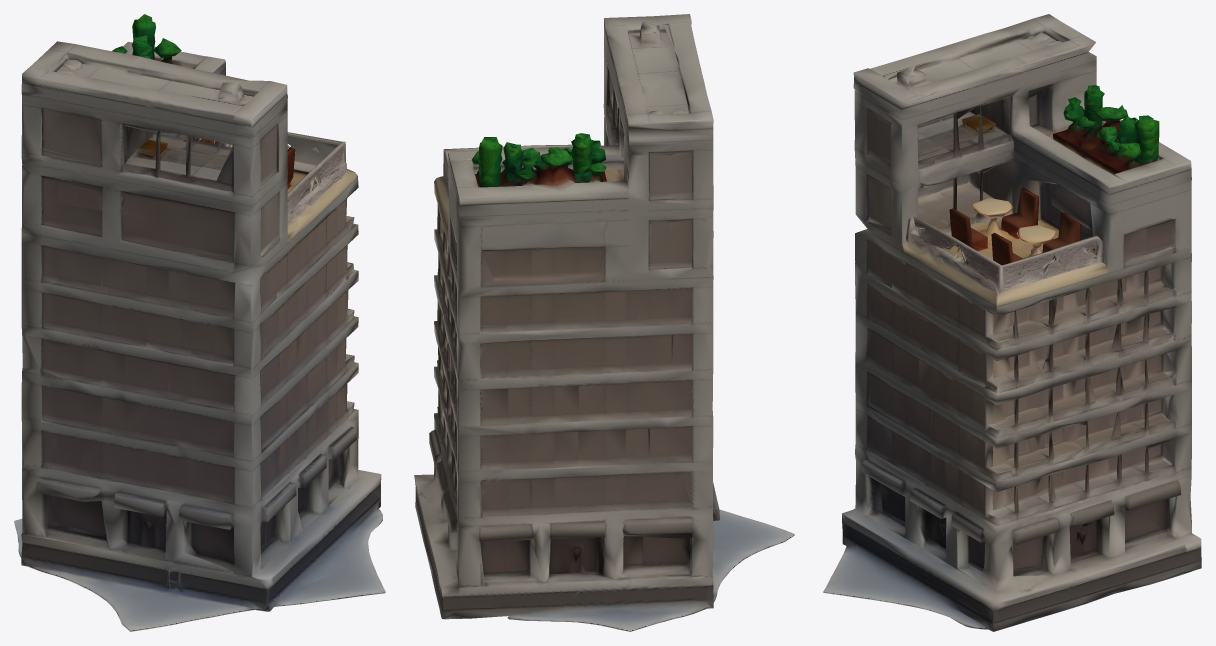
The model's file is mina.glb.
3 renders of one model, left to right at view 1: azimuth 30°, elevation 25°; view 2: azimuth 150°, elevation 25°; view 3: azimuth 270°, elevation 25°, orthographic. The views are drawn at different scales.
Visible parts, largest first — view 1: tripo_node_3a203813-7be5-445b-9ecc-8efe9c4e088e; view 2: tripo_node_3a203813-7be5-445b-9ecc-8efe9c4e088e; view 3: tripo_node_3a203813-7be5-445b-9ecc-8efe9c4e088e.
Part boxes in pixels (x1,y1,x2,y2): tripo_node_3a203813-7be5-445b-9ecc-8efe9c4e088e: (14,14,385,631); tripo_node_3a203813-7be5-445b-9ecc-8efe9c4e088e: (414,14,794,631); tripo_node_3a203813-7be5-445b-9ecc-8efe9c4e088e: (823,14,1201,631).
Size of the model in its own units: 0.6888 by 1 by 0.7202.
1 material, 1 textured.
